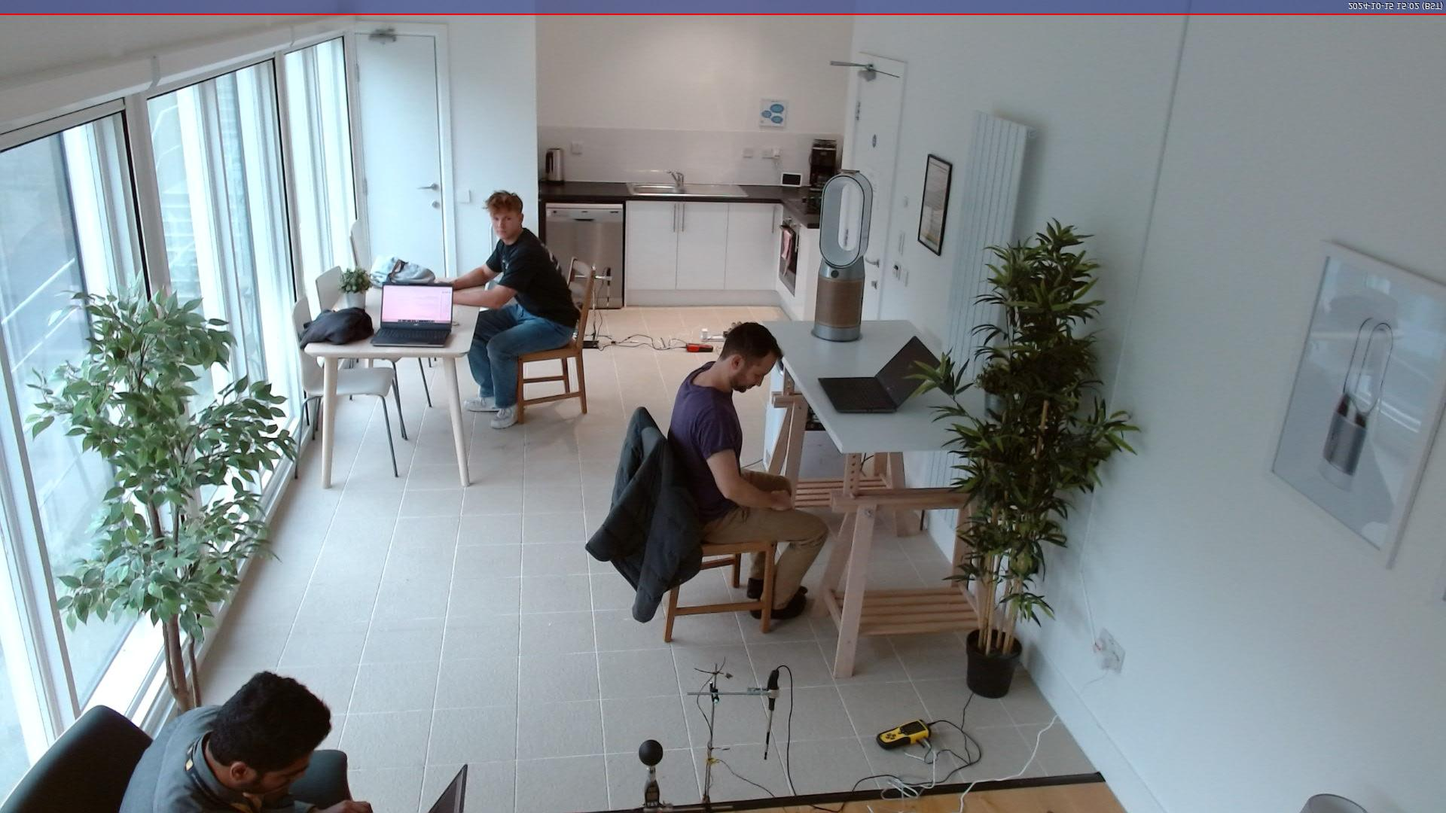long sleeve shirt: (117, 703, 318, 813)
short sleeve shirt: (667, 356, 745, 518), (480, 225, 581, 328)
trousers: (694, 466, 833, 608), (469, 305, 578, 401)
